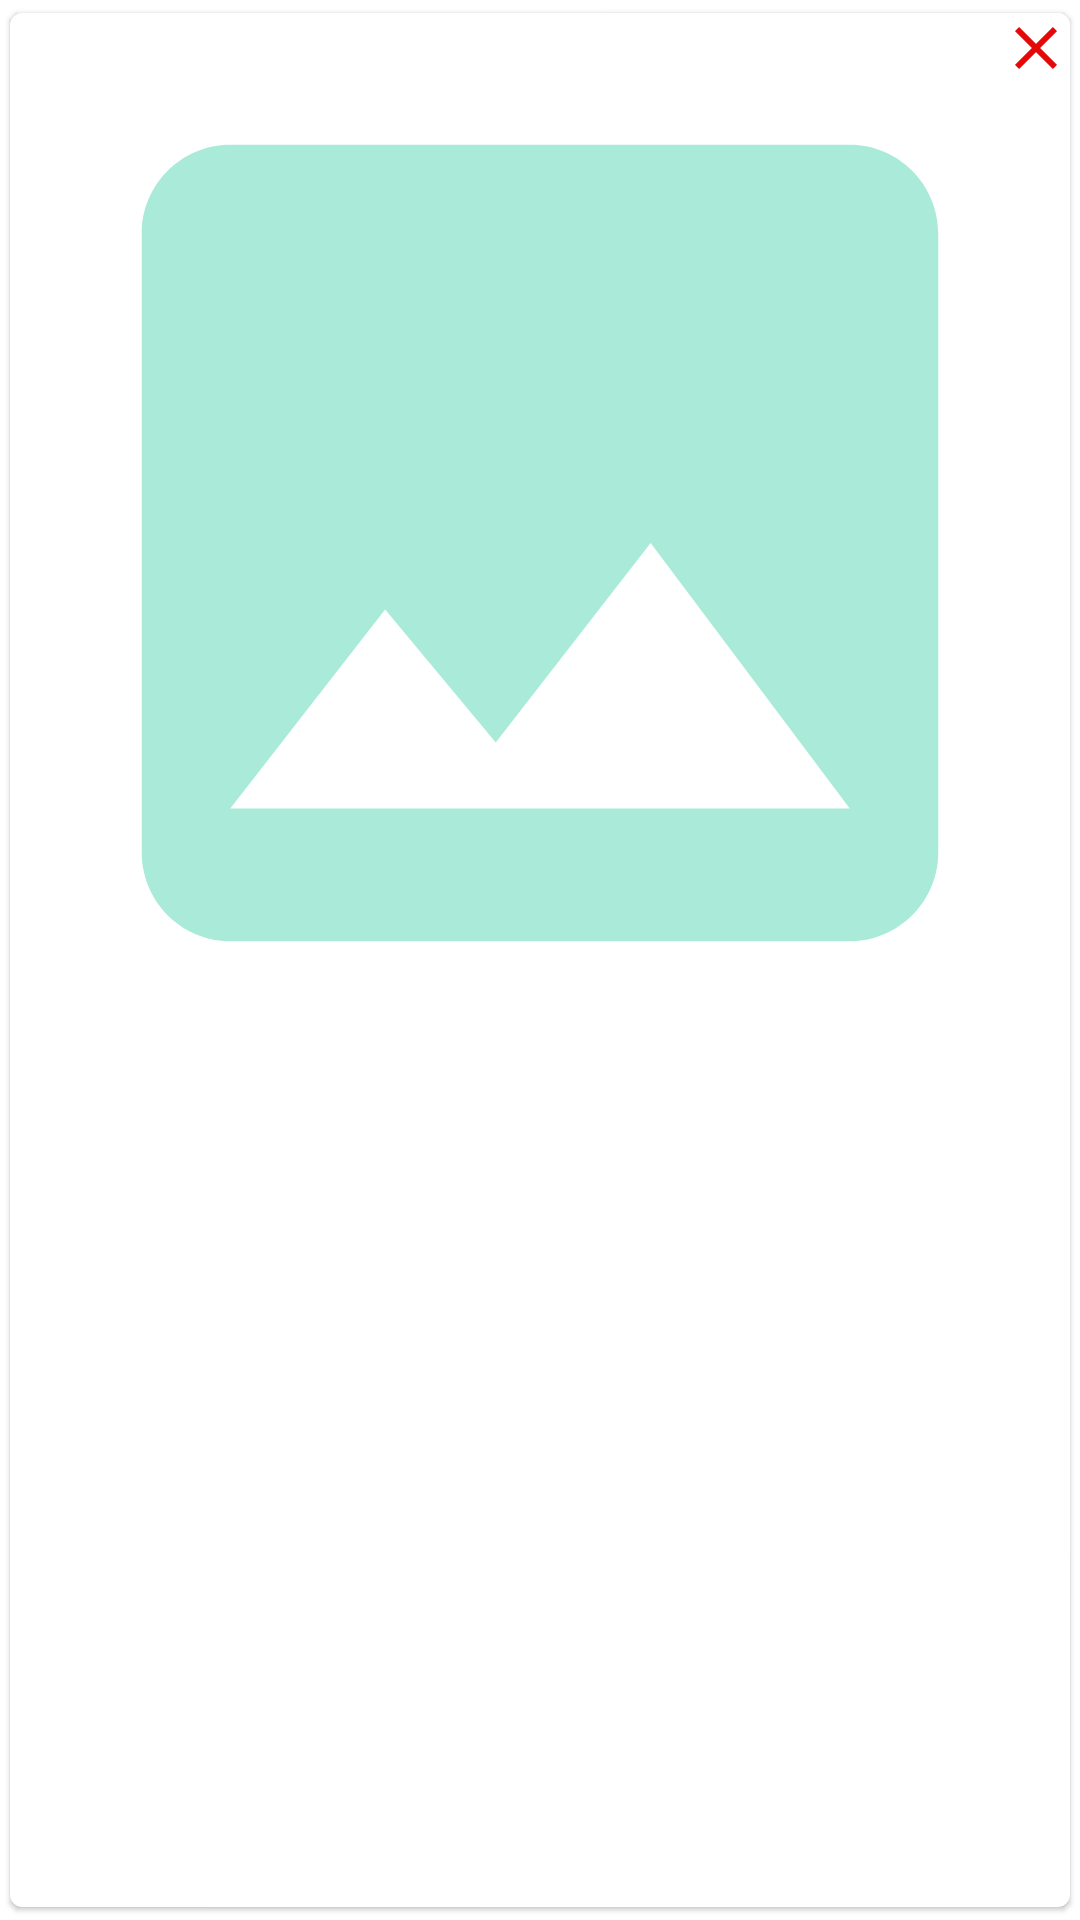

Icon bounding boxes for this 1080px x 1920px phone screenshot, format (x1, y1, x2, y2):
close: (1015, 13, 1070, 69)
